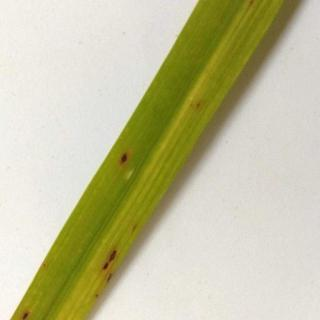Blast: (91, 236, 127, 298), (118, 144, 134, 178)
